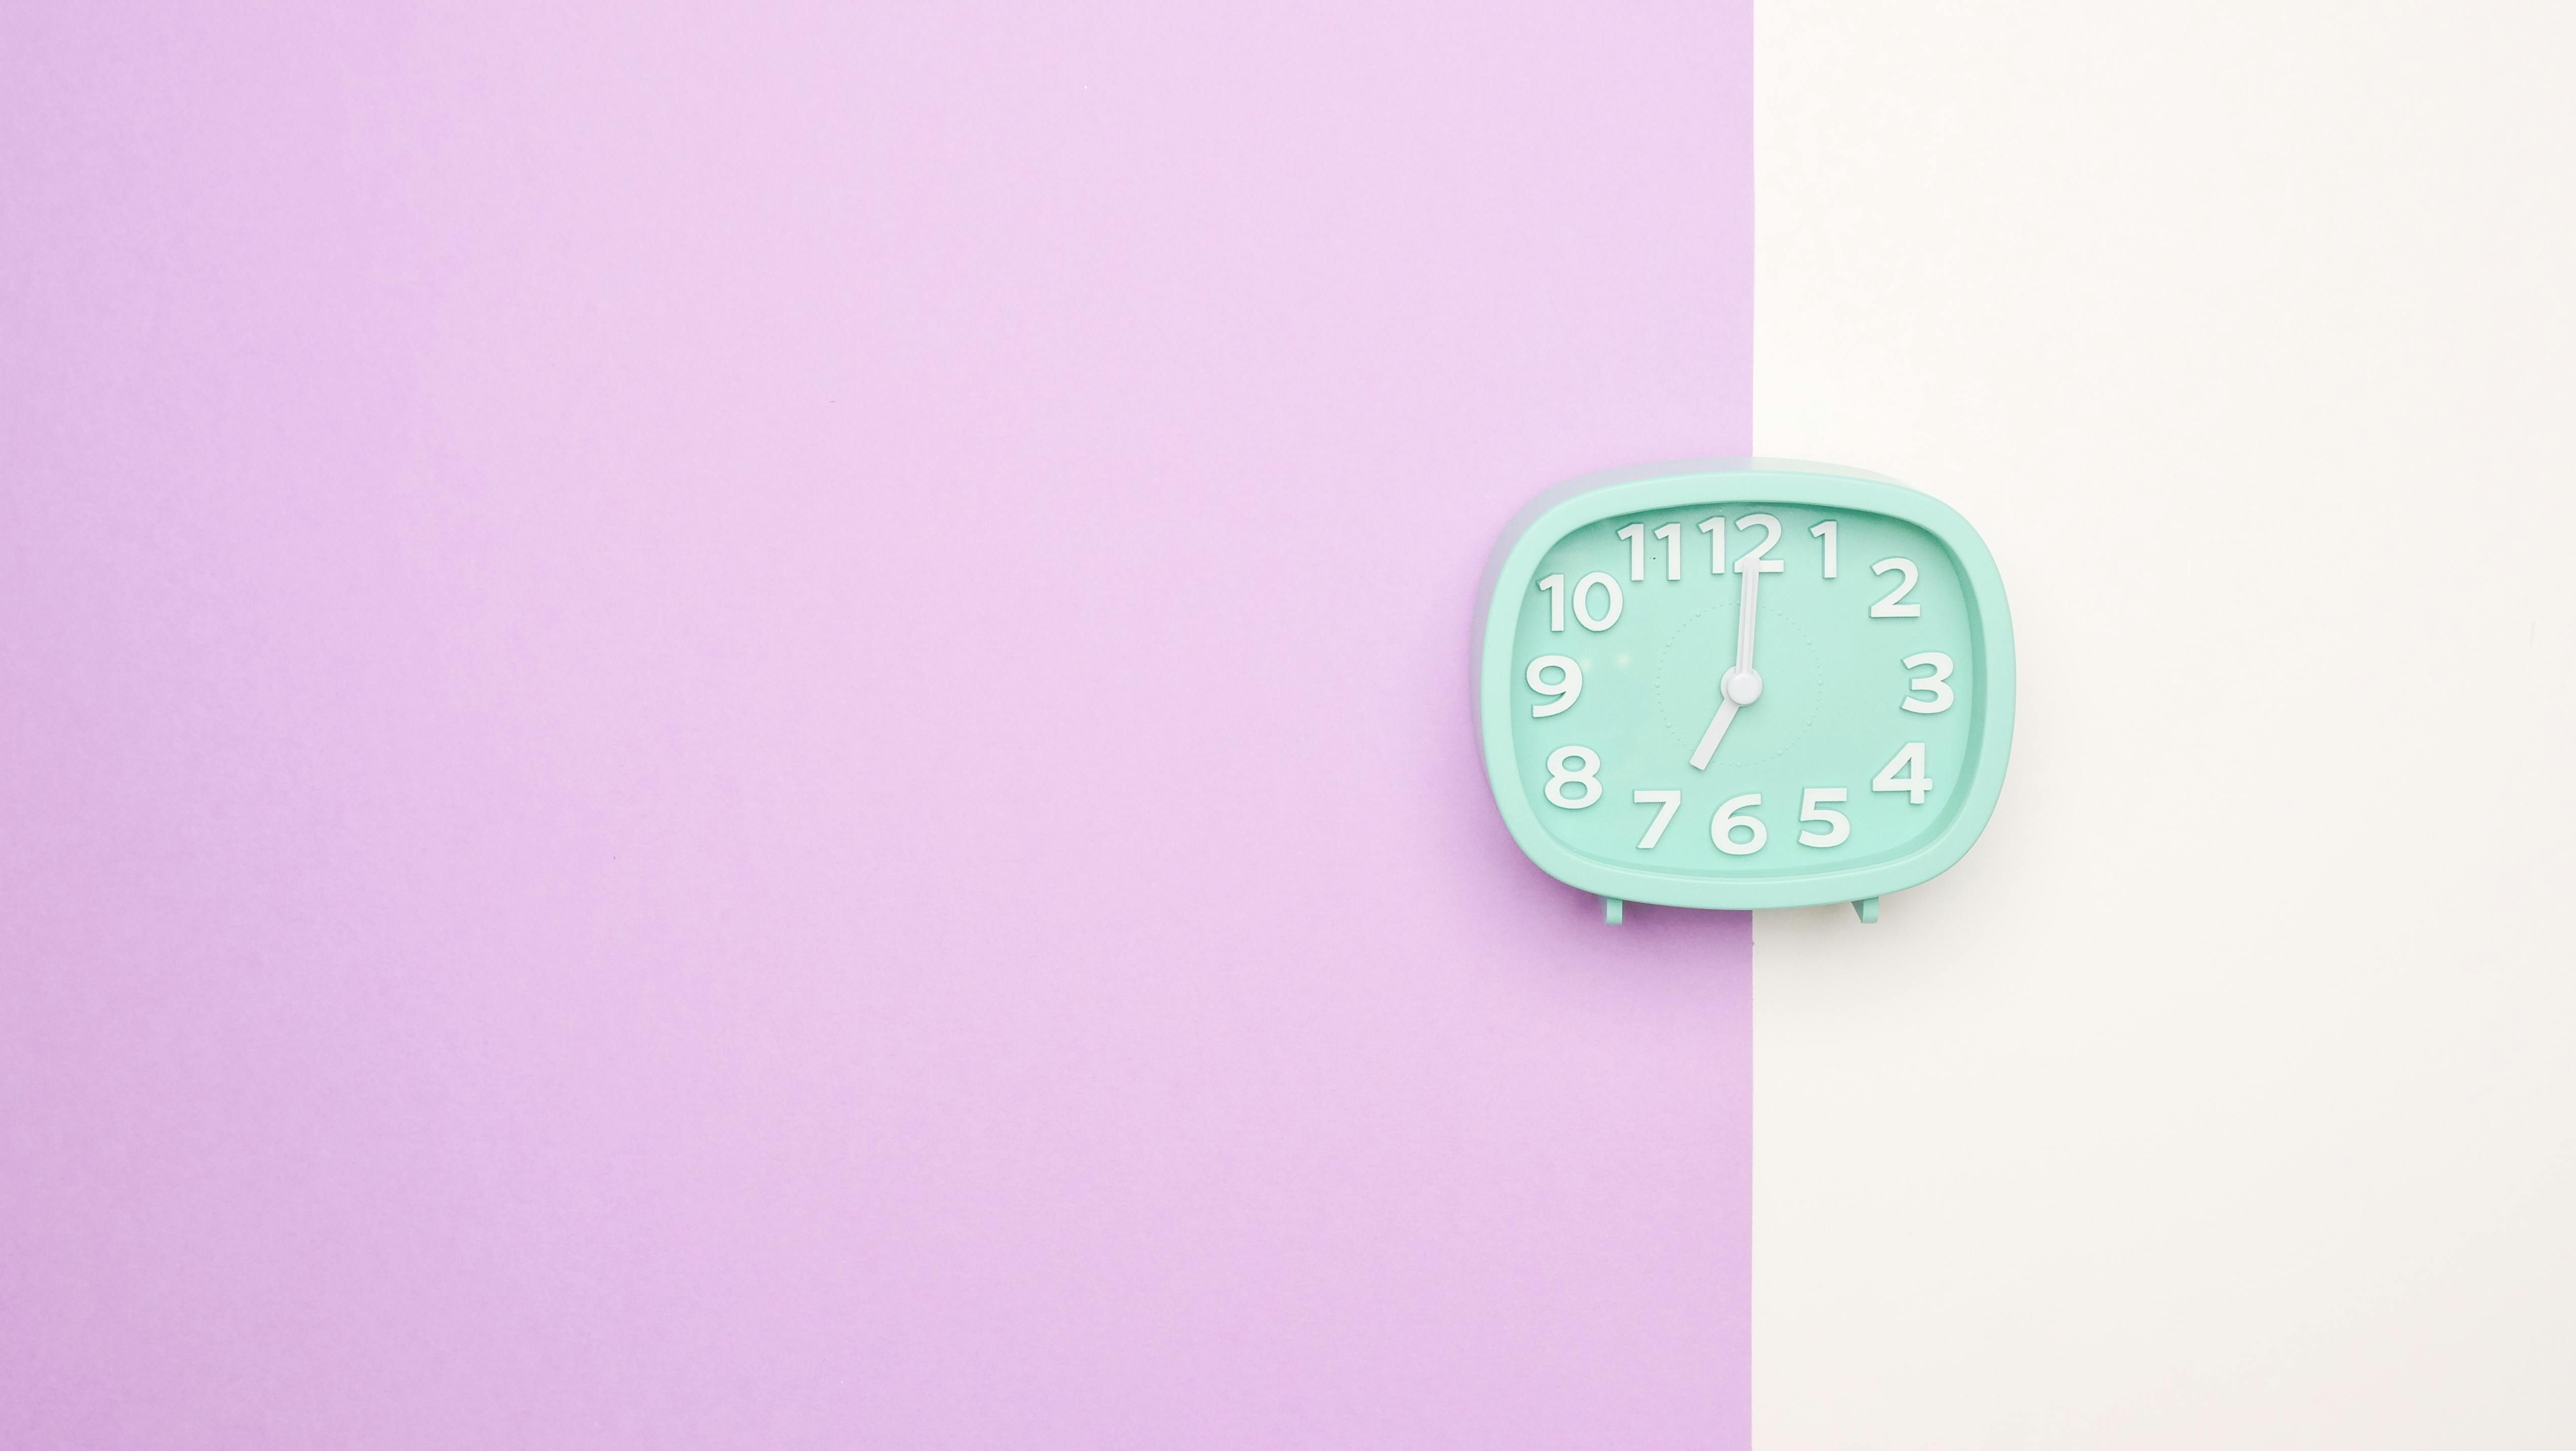clock: (1398, 418, 2134, 970)
